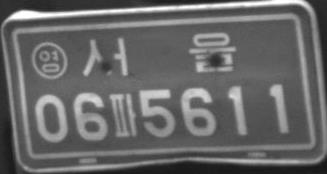0: (33, 93, 68, 144)
1: (262, 83, 296, 133), (221, 85, 254, 136)
5: (137, 87, 175, 138)
6: (71, 90, 109, 142), (180, 87, 217, 137)
서울_D: (82, 31, 236, 78)
영: (31, 40, 67, 79)
파: (109, 93, 138, 136)
